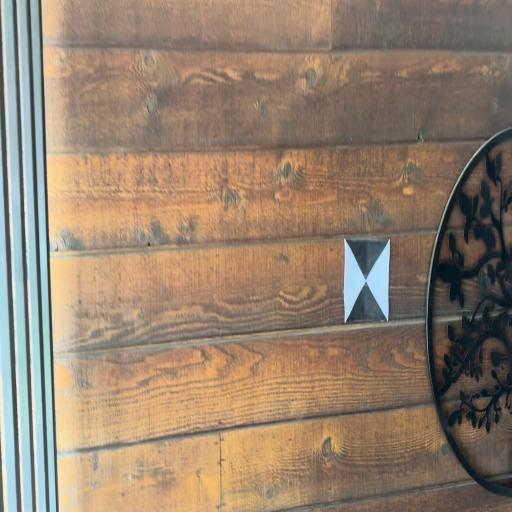target: (344, 238, 390, 322)
